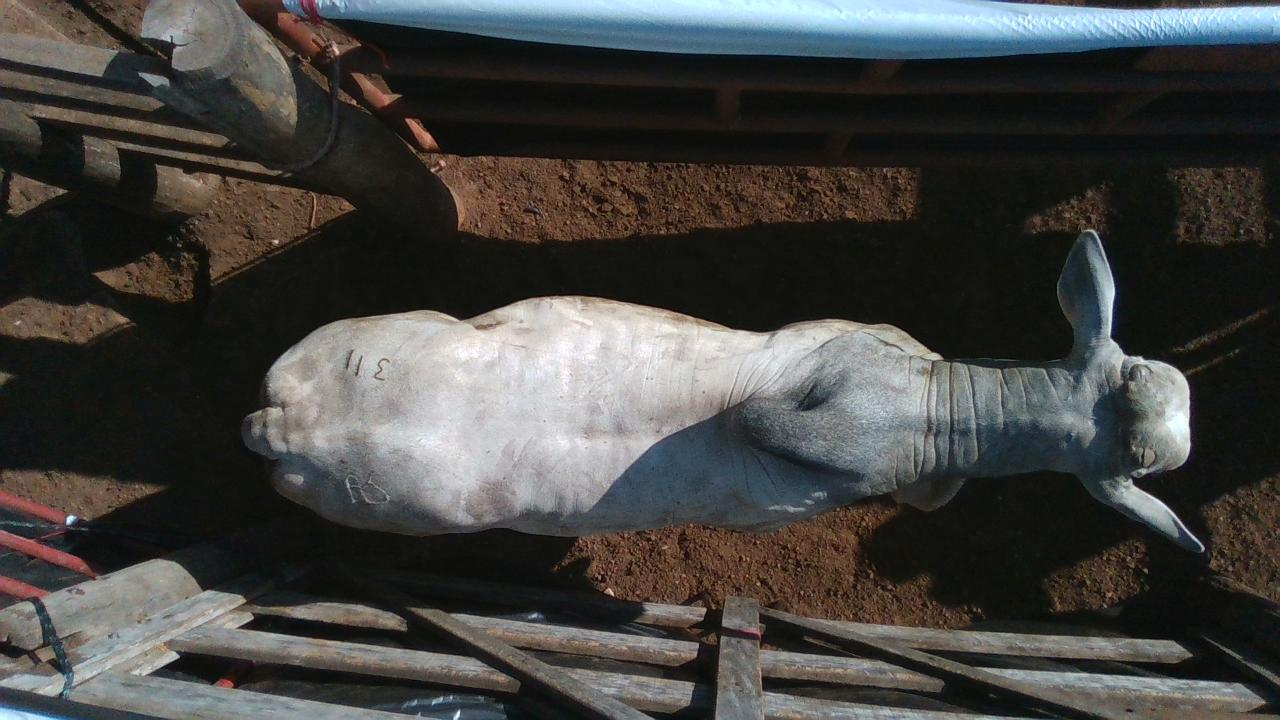cattle: (239, 226, 1207, 554)
